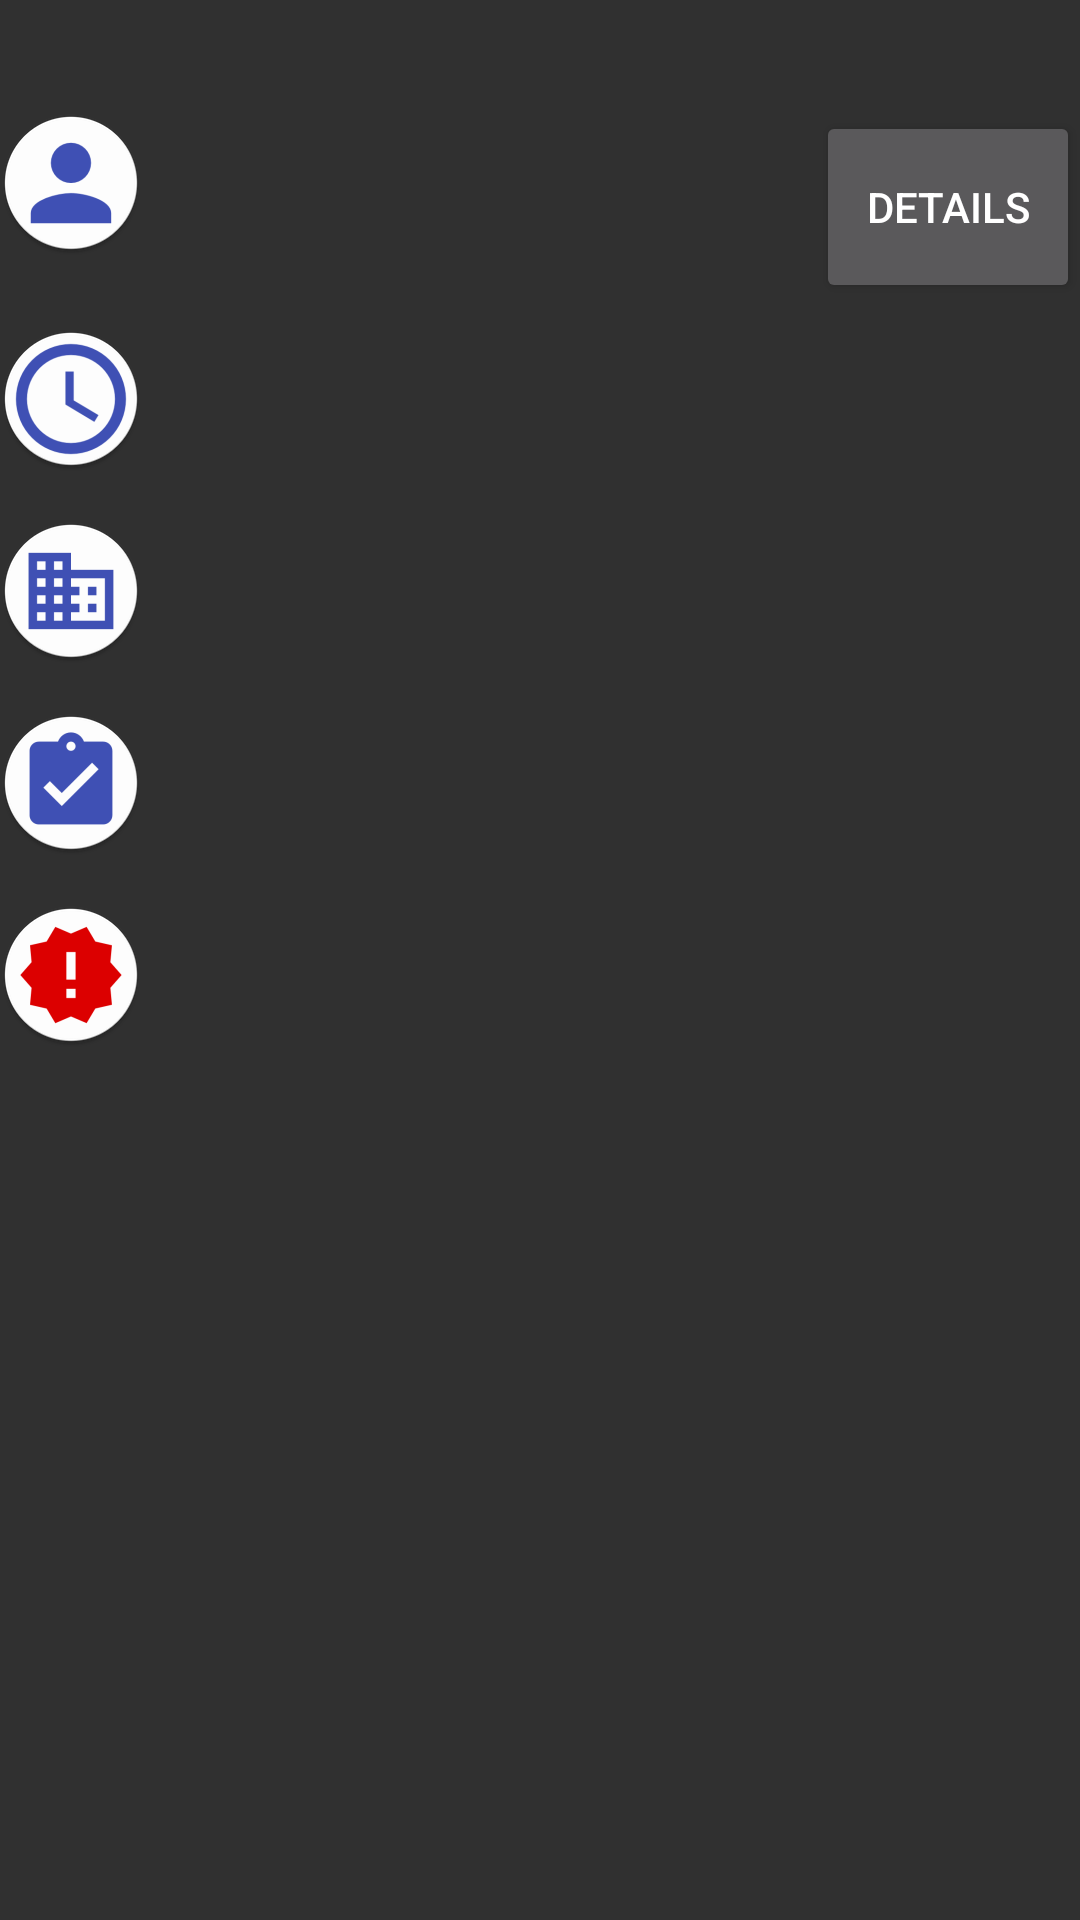

Screen size 1080*1920. Icon name, then its box in pixels as BBox(x1, y1, x2, y2):
changed: BBox(5, 908, 137, 1041)
lecturer: BBox(5, 116, 137, 249)
lessontime: BBox(5, 332, 137, 465)
room: BBox(5, 524, 137, 657)
testform: BBox(5, 716, 137, 849)
